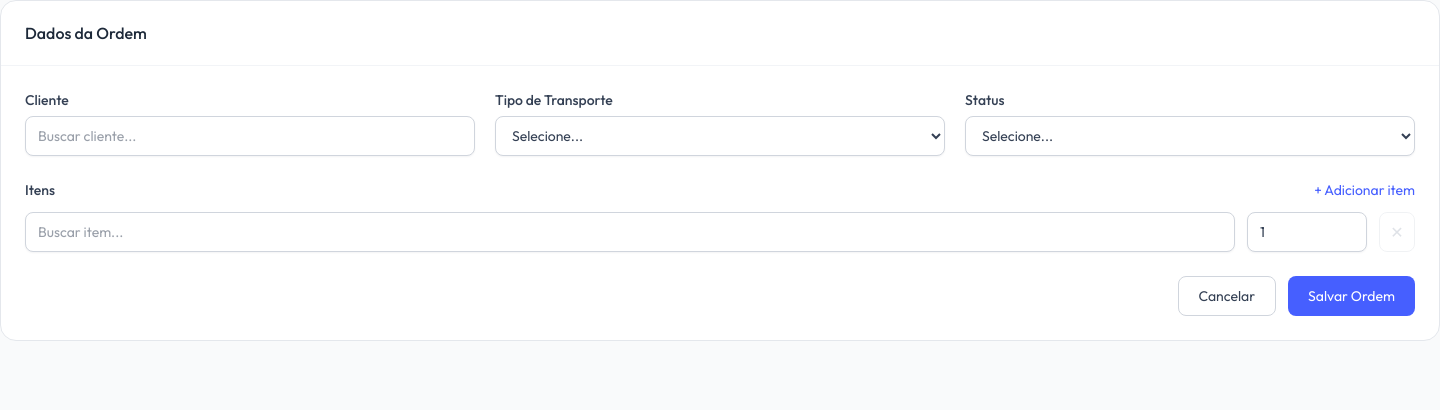
Scenario: OrderForm — modo criação › adiciona nova linha de item ao clicar em + Adicionar item
The image size is (1440, 410).
expect the number of fields with placeholder "Buscar item..." is 1: met, box left=25, top=212, right=1235, bottom=252
Click the button "+ Adicionar item".
click(1365, 190)  # box left=1314, top=180, right=1415, bottom=200
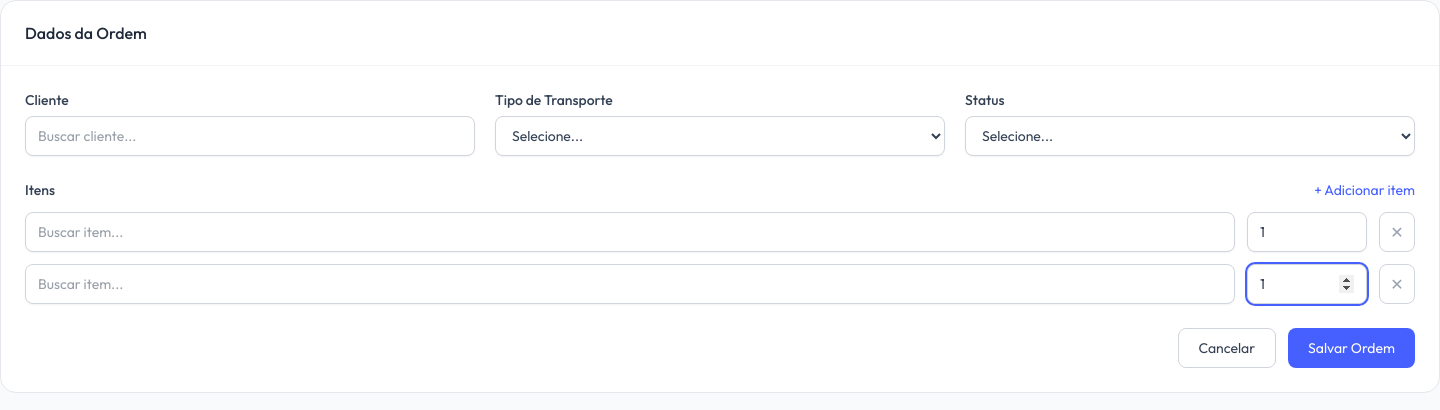
expect the number of fields with placeholder "Buscar item..." is 2: met, box left=25, top=212, right=1235, bottom=252; left=25, top=264, right=1235, bottom=304
